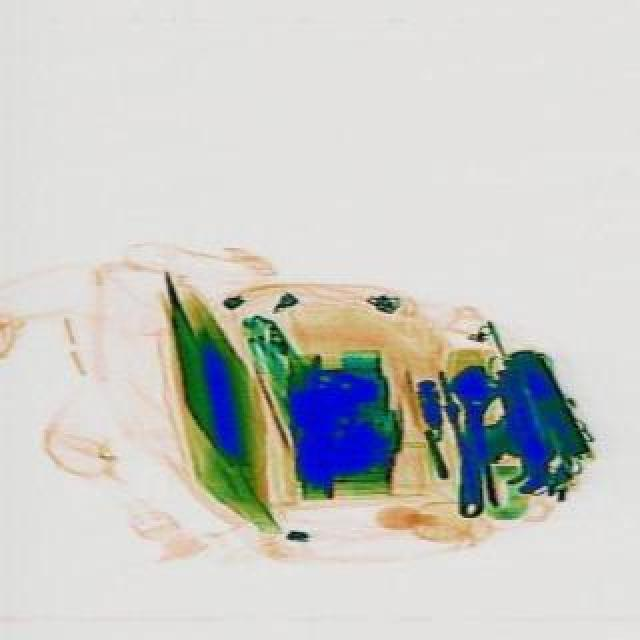scissors: (444, 364, 498, 516)
